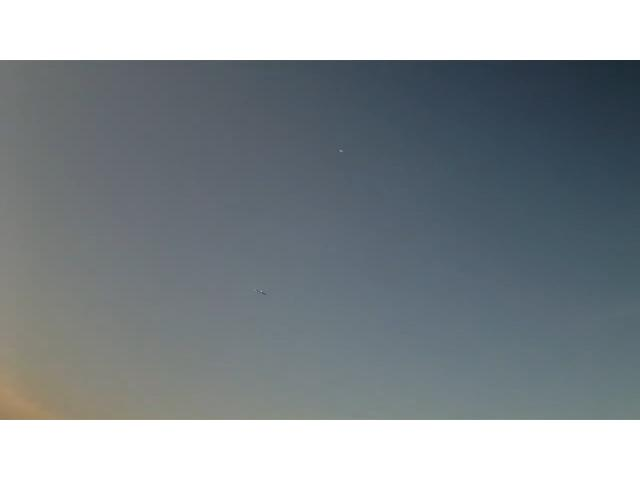Anti-Drone: (254, 288, 276, 304)
